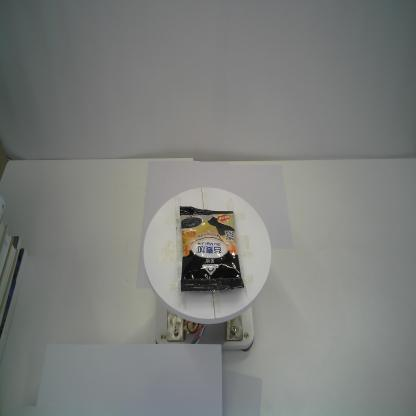Instant Drink: (180, 205, 244, 292)
